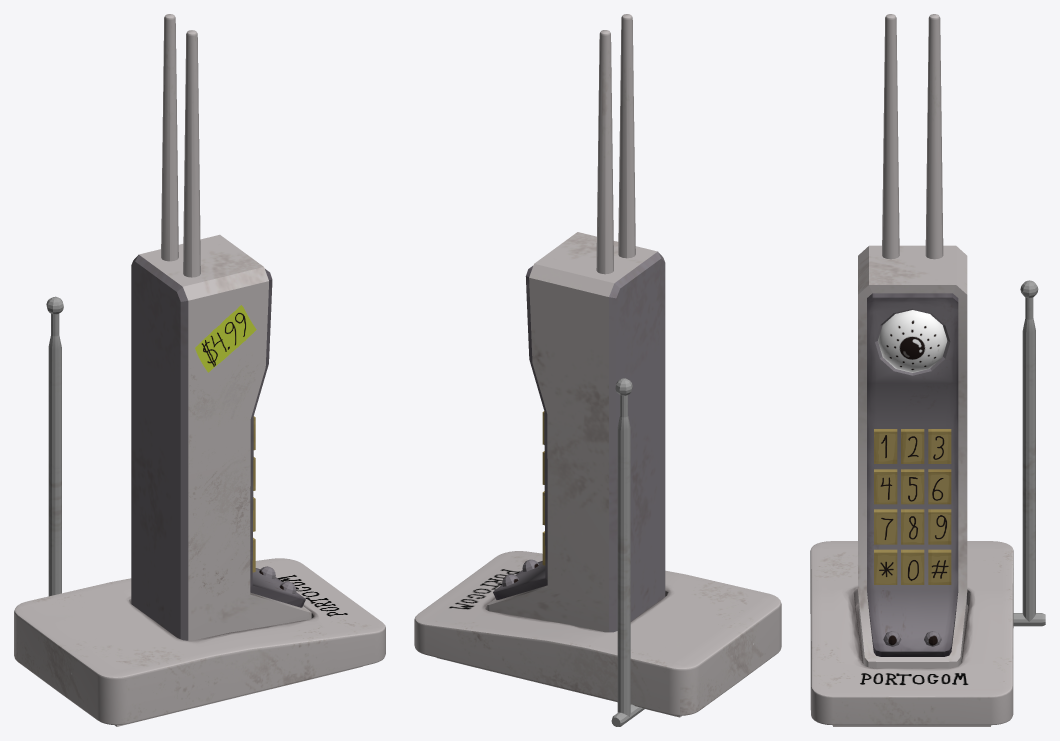
The model's file is portocom.obj.
3 views of the same model, side by side, from view 1: azimuth 30°, elevation 25°; view 2: azimuth 150°, elevation 25°; view 3: azimuth 270°, elevation 25° (orthographic).
Parts seen in each view (by area): view 1: portocom_phone, portocom_base; view 2: portocom_phone, portocom_base; view 3: portocom_phone, portocom_base.
Part boxes in pixels (left/top/right/bottom): portocom_phone: left=131, top=14, right=311, bottom=640; portocom_base: left=14, top=296, right=385, bottom=726; portocom_phone: left=487, top=14, right=665, bottom=632; portocom_base: left=414, top=378, right=781, bottom=726; portocom_phone: left=858, top=14, right=967, bottom=668; portocom_base: left=810, top=280, right=1045, bottom=726.
Bounding box in the file's own units: 36.44 × 78.91 × 26.18.
1 material, 1 textured.
